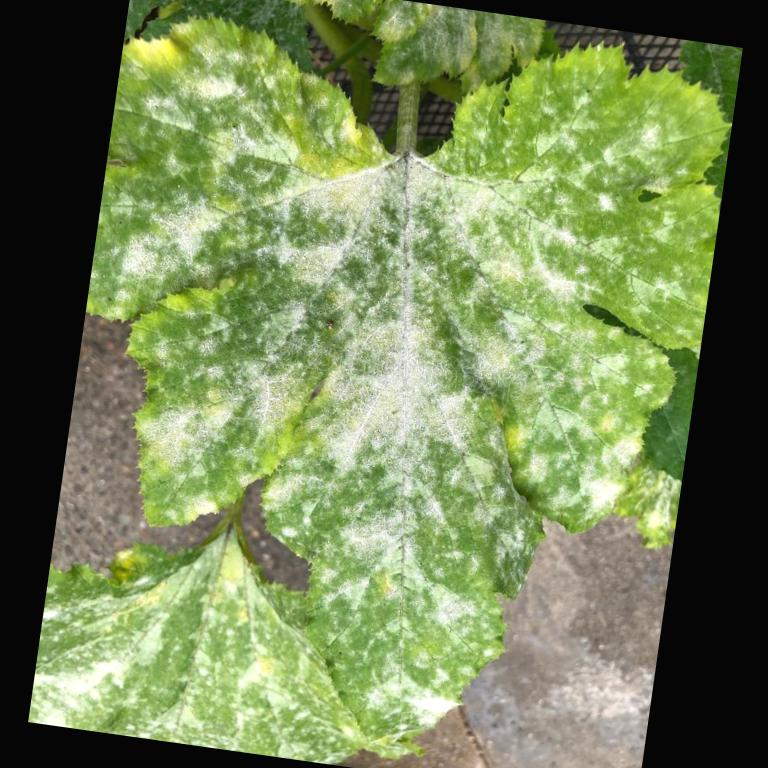powdery-mildew: (104, 89, 362, 309), (305, 382, 508, 636), (364, 156, 570, 332)
